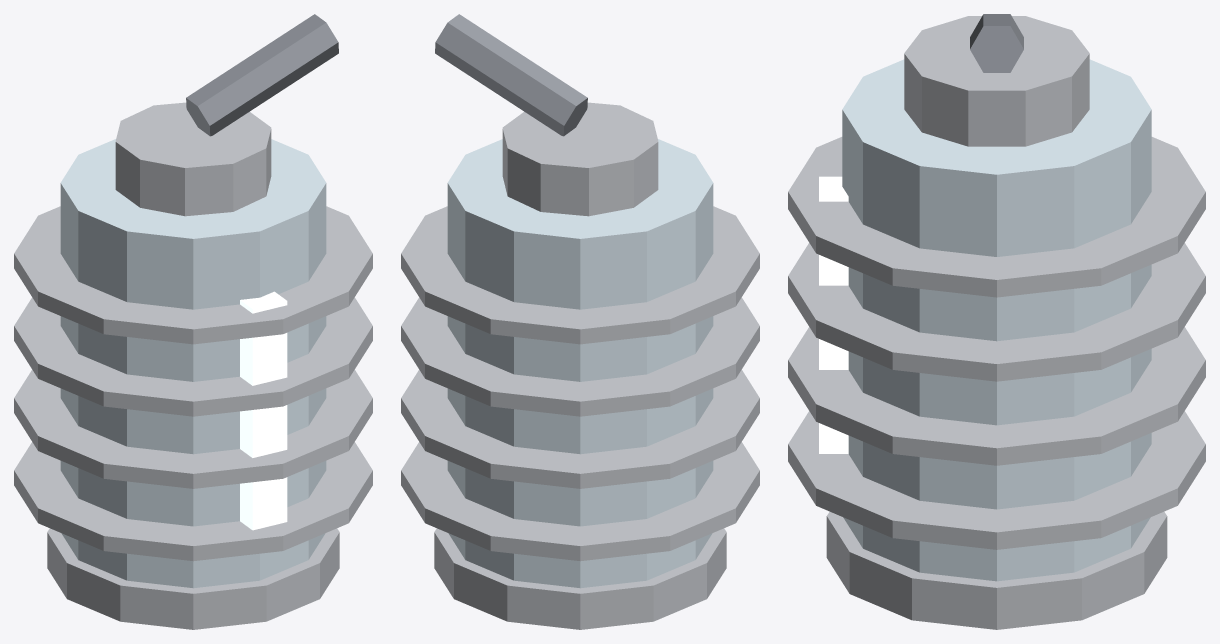
File: item_coolant.glb
3 views of the same model, side by side, from view 1: azimuth 30°, elevation 25°; view 2: azimuth 150°, elevation 25°; view 3: azimuth 270°, elevation 25° (orthographic). The views are drawn at different scales.
Visible parts, largest first — view 1: item_coolant; view 2: item_coolant; view 3: item_coolant.
Boxes of the visible parts, x1=… form: item_coolant: x1=14, y1=14, x2=372, y2=629; item_coolant: x1=401, y1=14, x2=759, y2=629; item_coolant: x1=788, y1=14, x2=1205, y2=629.
Bounding box in the file's own units: 0.54 × 0.8617 × 0.54.
